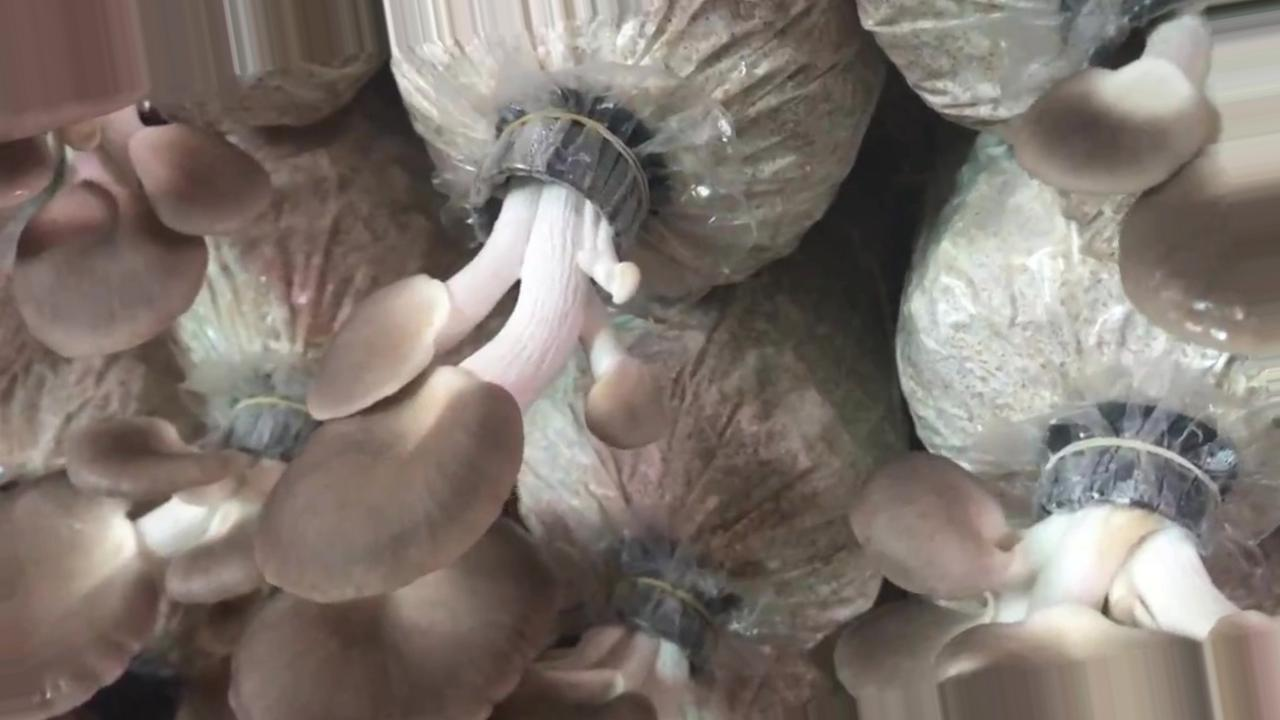nam: (255, 98, 674, 600), (1, 405, 564, 718), (838, 425, 1277, 720), (1013, 1, 1280, 358), (1, 77, 270, 354), (496, 567, 723, 720)
